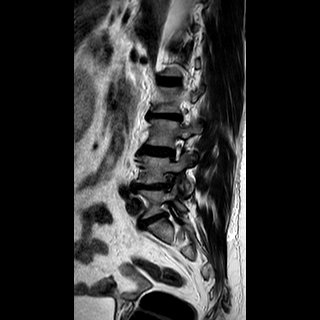LFS1: (168, 130, 188, 167)
LFS3: (161, 169, 181, 198)
